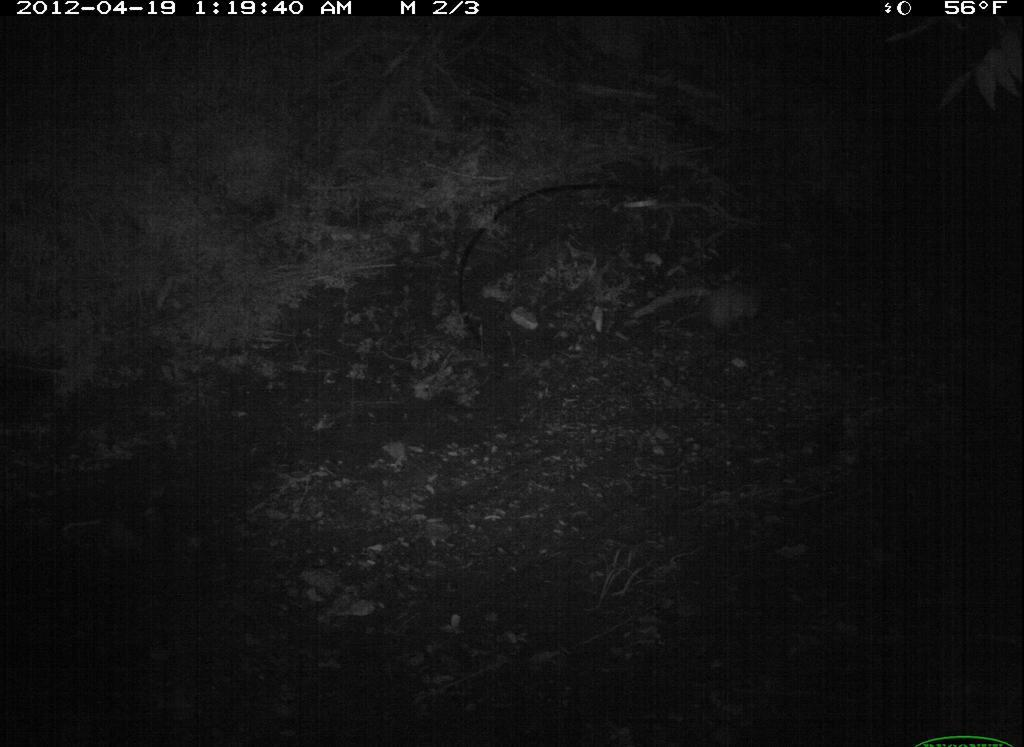opossum: (668, 274, 805, 340)
